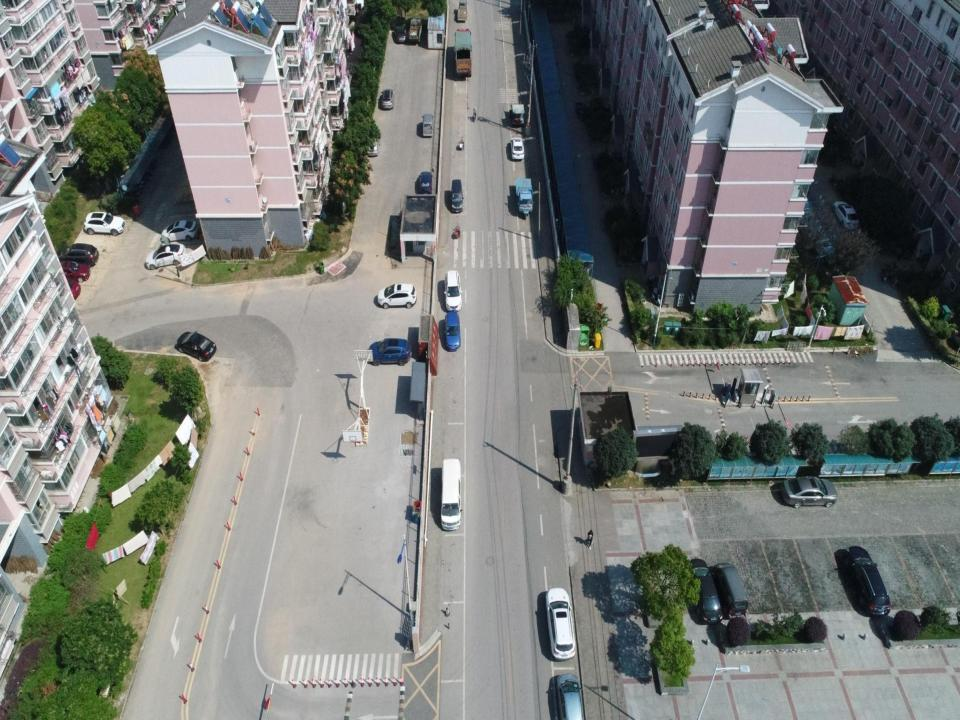car: (841, 544, 891, 617), (682, 557, 724, 627), (545, 587, 576, 661), (779, 473, 838, 509), (366, 337, 412, 368), (174, 330, 217, 363), (144, 241, 186, 271), (556, 674, 583, 720), (376, 282, 418, 310), (82, 210, 126, 236), (62, 241, 100, 267), (58, 255, 92, 283), (832, 198, 860, 232), (444, 268, 463, 313), (160, 219, 198, 241), (443, 309, 462, 352), (54, 272, 82, 300), (450, 178, 464, 214), (418, 170, 433, 197), (510, 136, 525, 162), (366, 133, 379, 158), (393, 22, 407, 45), (380, 88, 394, 110)
truck: (453, 27, 473, 79), (408, 15, 423, 45), (456, 0, 467, 21)
van: (712, 560, 750, 620), (439, 458, 463, 532), (420, 111, 435, 139)
